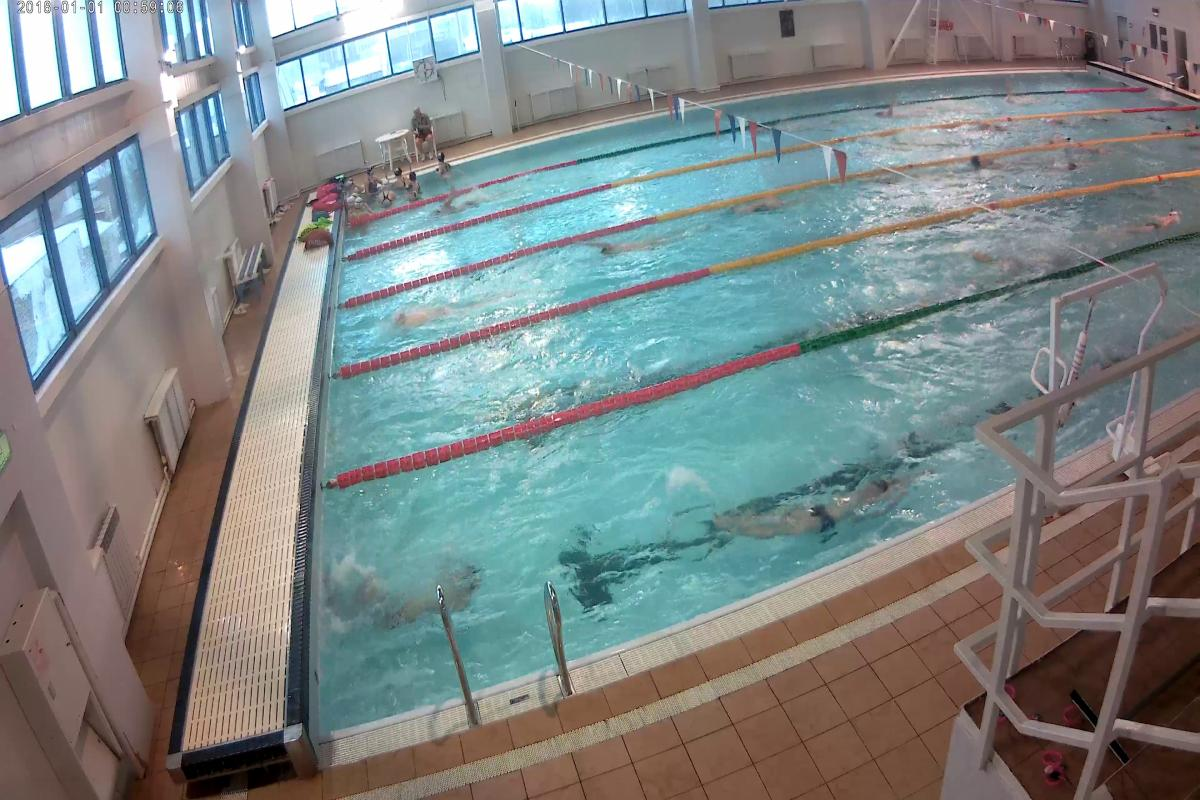swimmer: (717, 463, 928, 531), (366, 559, 519, 621), (586, 226, 690, 254), (394, 306, 488, 335), (1119, 204, 1182, 245), (985, 242, 1056, 274), (733, 197, 807, 224), (951, 146, 1014, 175)
